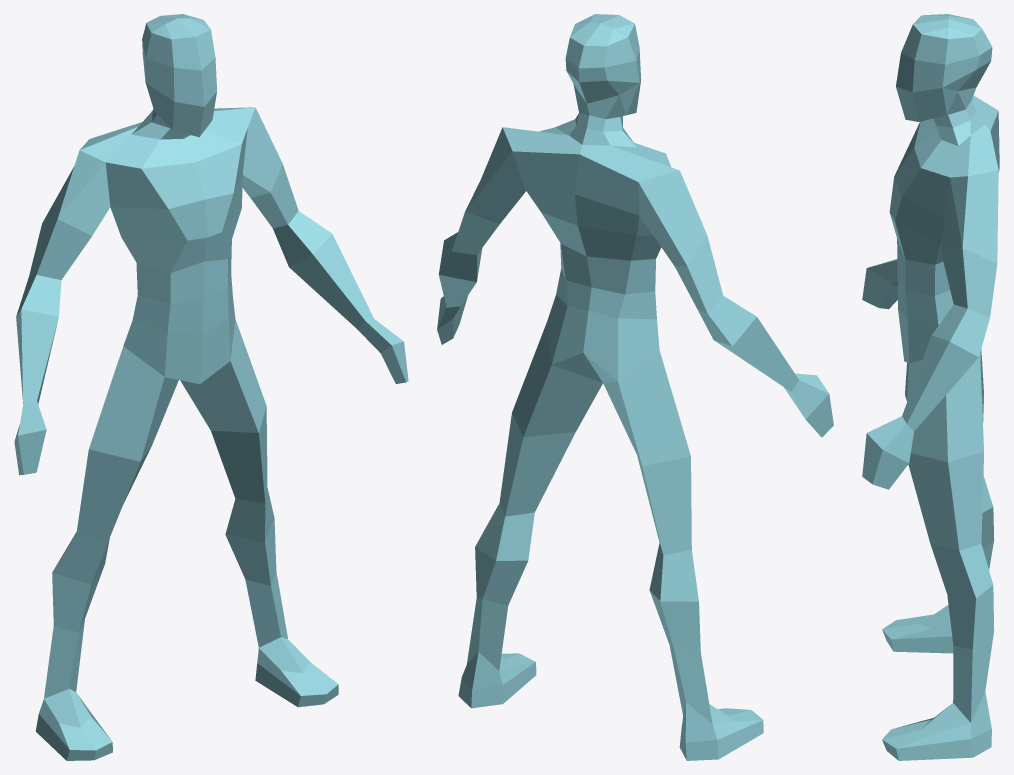
The model's file is LowPolySuperHeroBlue.fbx.
The picture shows the model from 3 angles, left to right: view 1: azimuth 30°, elevation 25°; view 2: azimuth 150°, elevation 25°; view 3: azimuth 270°, elevation 25°; orthographic projection. The views are drawn at different scales.
Parts seen in each view (by area): view 1: BASE_Low Poly Man; view 2: BASE_Low Poly Man; view 3: BASE_Low Poly Man.
Part boxes in pixels (left/top/right/bottom): BASE_Low Poly Man: left=14, top=14, right=408, bottom=760; BASE_Low Poly Man: left=437, top=14, right=833, bottom=760; BASE_Low Poly Man: left=862, top=14, right=999, bottom=760.
Bounding box in the file's own units: 336 × 575 × 106.
